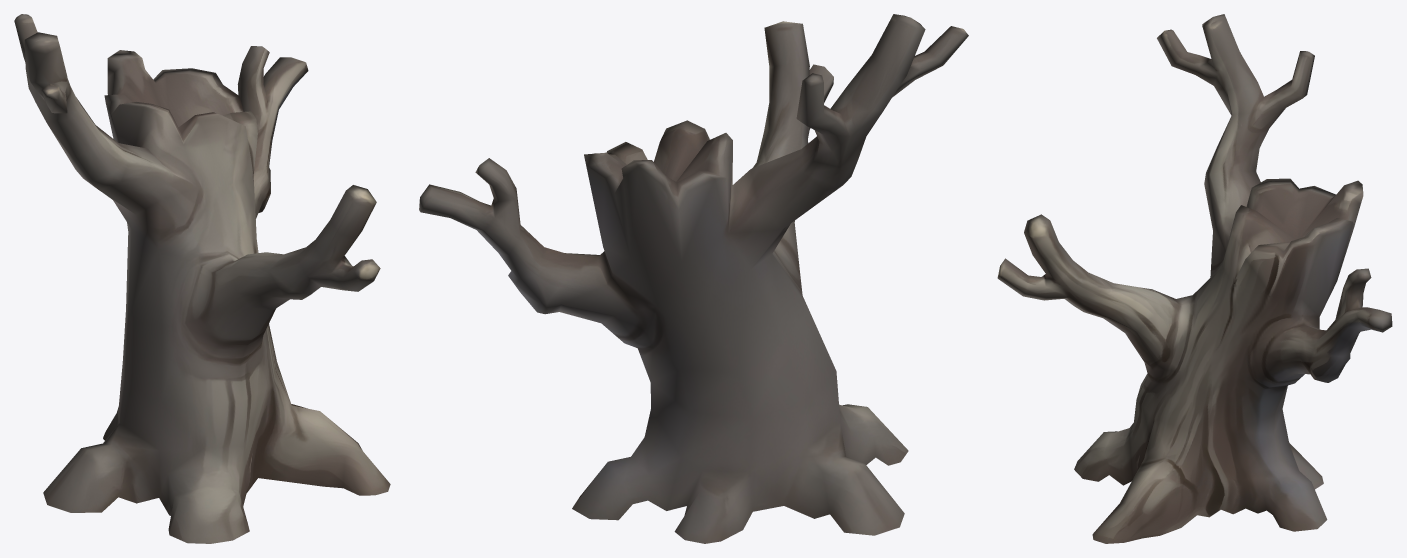
File: map_deadtree_tripo.glb
3 views of the same model, side by side, from view 1: azimuth 30°, elevation 25°; view 2: azimuth 150°, elevation 25°; view 3: azimuth 270°, elevation 25° (orthographic). The views are drawn at different scales.
Visible parts, largest first — view 1: tripo_node_cdb8f800-2ff9-4f08-8447-49cf54e65e63; view 2: tripo_node_cdb8f800-2ff9-4f08-8447-49cf54e65e63; view 3: tripo_node_cdb8f800-2ff9-4f08-8447-49cf54e65e63.
Part boxes in pixels (x1,y1,x2,y2): tripo_node_cdb8f800-2ff9-4f08-8447-49cf54e65e63: [14, 14, 390, 543]; tripo_node_cdb8f800-2ff9-4f08-8447-49cf54e65e63: [419, 14, 968, 543]; tripo_node_cdb8f800-2ff9-4f08-8447-49cf54e65e63: [997, 14, 1392, 543].
Size of the model in its own units: 0.8496 by 0.998 by 0.877.
Materials: 1 (1 with a texture image).
